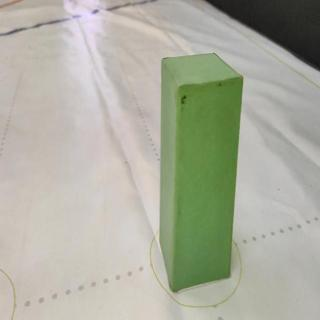greenbox: (159, 50, 244, 292)
